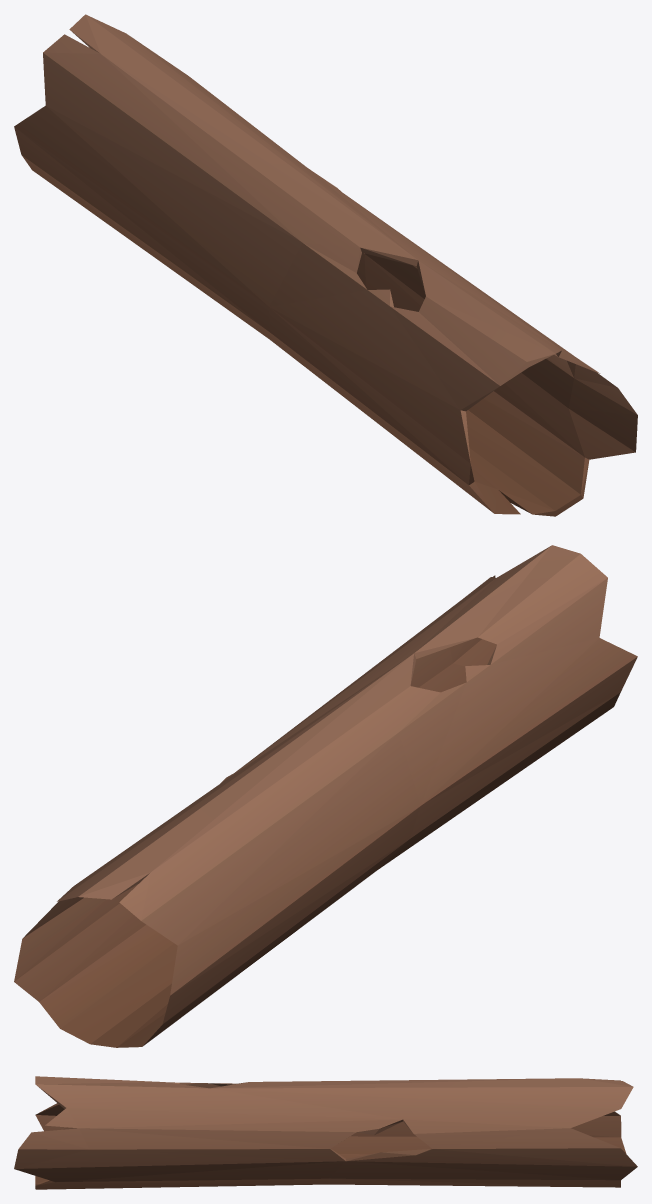
The model's file is SM_Nature_Log_01.fbx.
3 views of the same model, one above another, from view 1: azimuth 30°, elevation 25°; view 2: azimuth 150°, elevation 25°; view 3: azimuth 270°, elevation 25° (orthographic). The views are drawn at different scales.
Parts seen in each view (by area): view 1: SM_Nature_Log_01; view 2: SM_Nature_Log_01; view 3: SM_Nature_Log_01.
Part boxes in pixels (bbox=[...]): SM_Nature_Log_01: bbox=[14, 14, 637, 516]; SM_Nature_Log_01: bbox=[14, 545, 637, 1047]; SM_Nature_Log_01: bbox=[14, 1076, 637, 1189].
Bounding box in the file's own units: 26.91 × 27.25 × 148.
